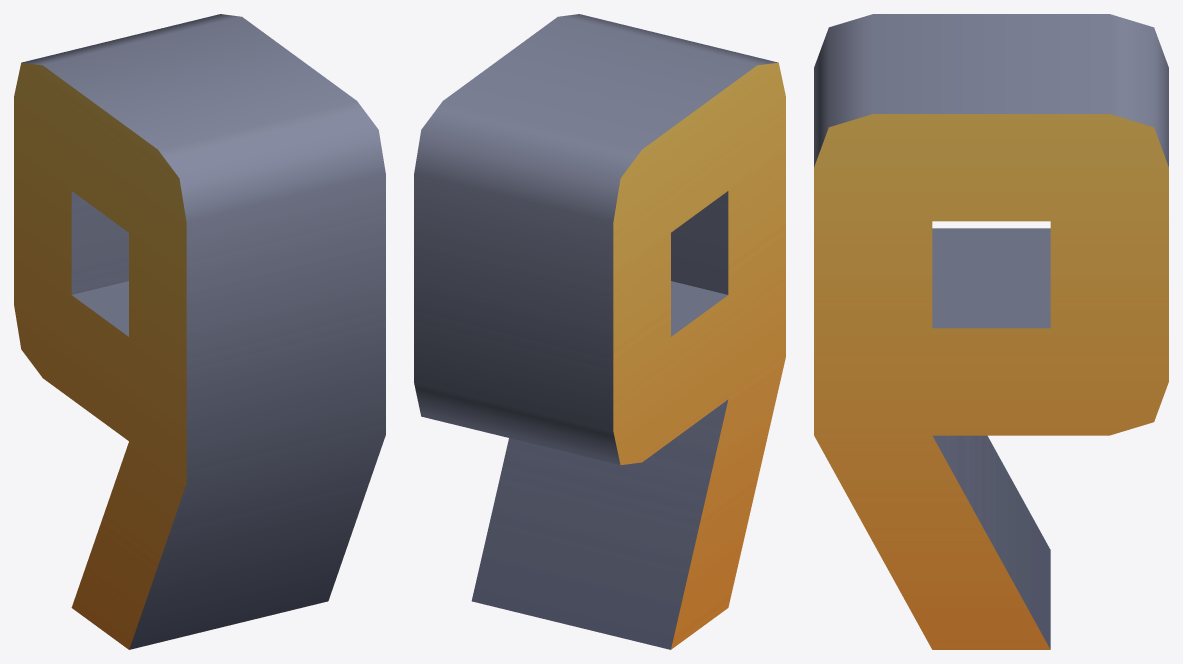
Rendered from number-9.fbx.
3 renders of one model, left to right at view 1: azimuth 30°, elevation 25°; view 2: azimuth 150°, elevation 25°; view 3: azimuth 270°, elevation 25°, orthographic. The views are drawn at different scales.
Visible parts, largest first — view 1: number-9; view 2: number-9; view 3: number-9.
Boxes of the visible parts, <box> form: number-9: <box>14,14,385,649</box>; number-9: <box>414,14,785,649</box>; number-9: <box>814,14,1168,649</box>.
Bounding box in the file's own units: 20 × 50 × 30.
